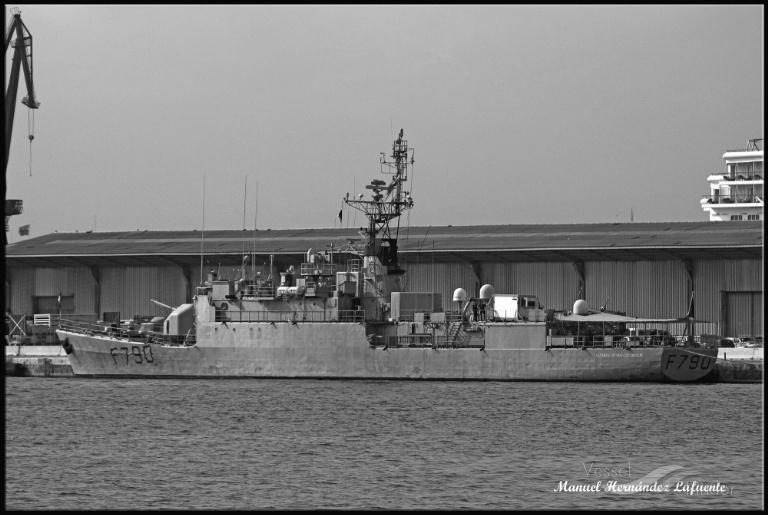OCR: (106, 344, 162, 371)
